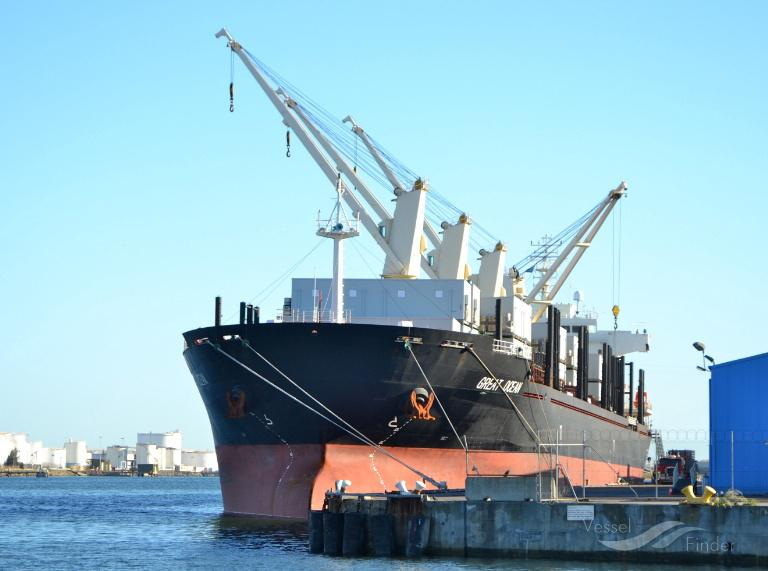OCR: (467, 369, 526, 398)
